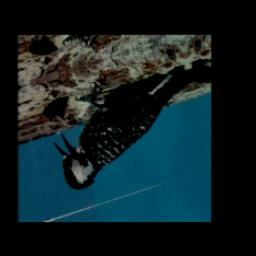Woodpecker: (40, 52, 207, 201)
